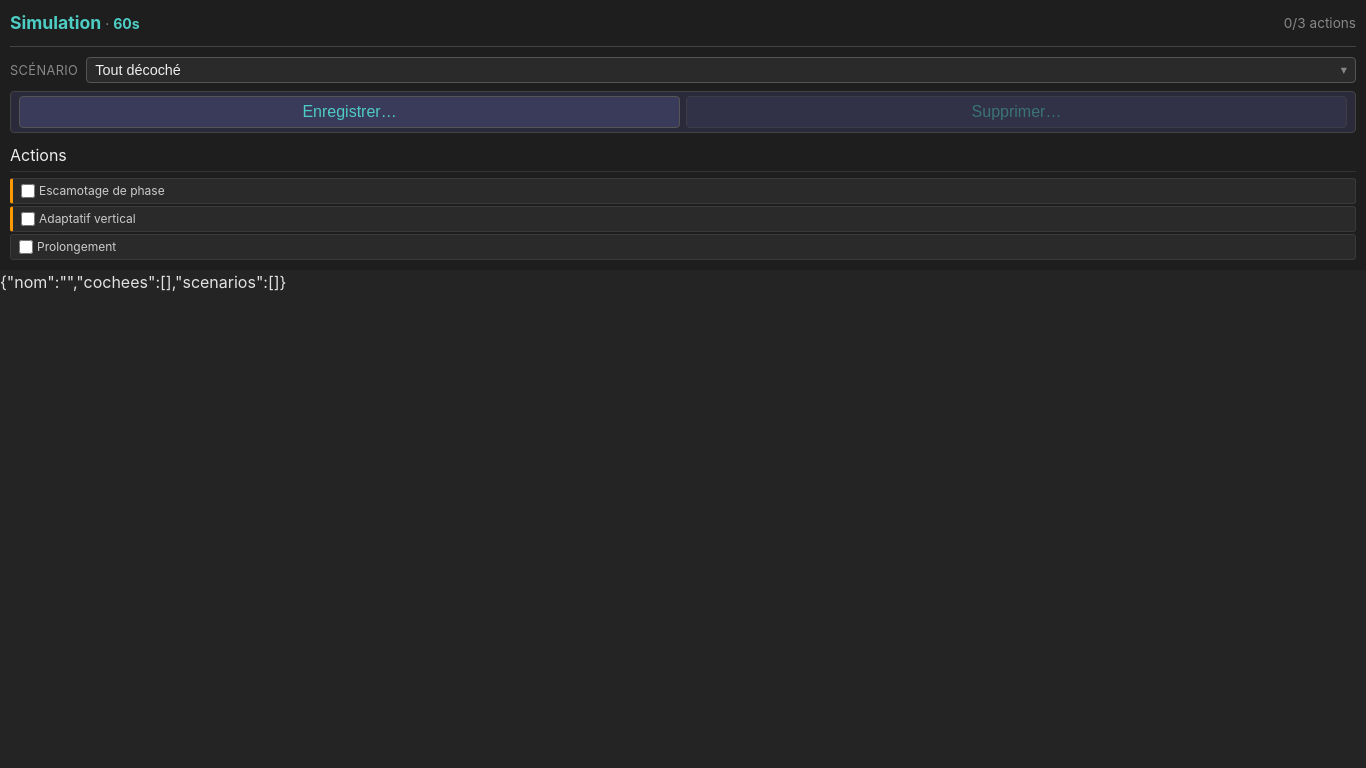
Test: Scénarios de simulation — la liste › les titres des scénarios fixes sont réservés
Click the button "Tout décoché ▾": (138, 70) x1=86 y1=57 x2=1356 y2=83
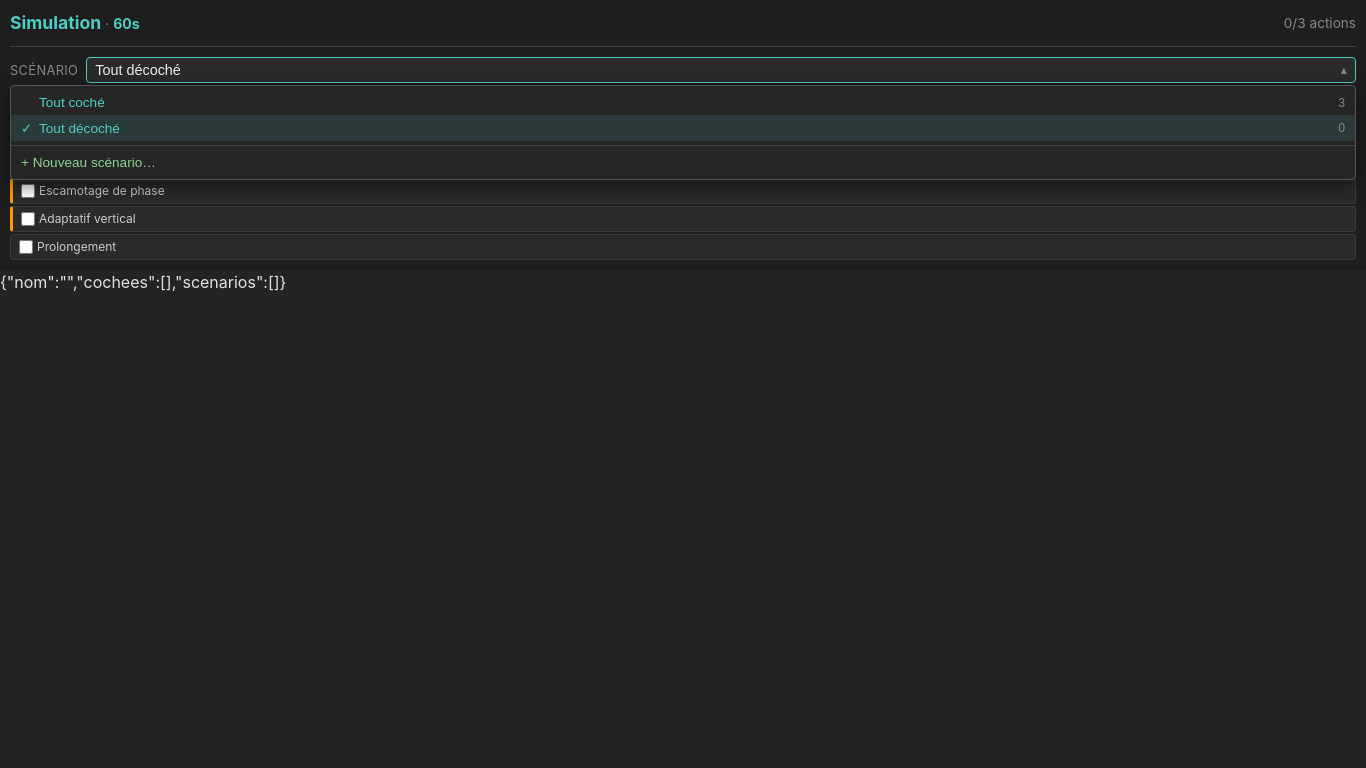
Click the button "+ Nouveau scénario…": (88, 163) x1=11 y1=150 x2=1355 y2=175
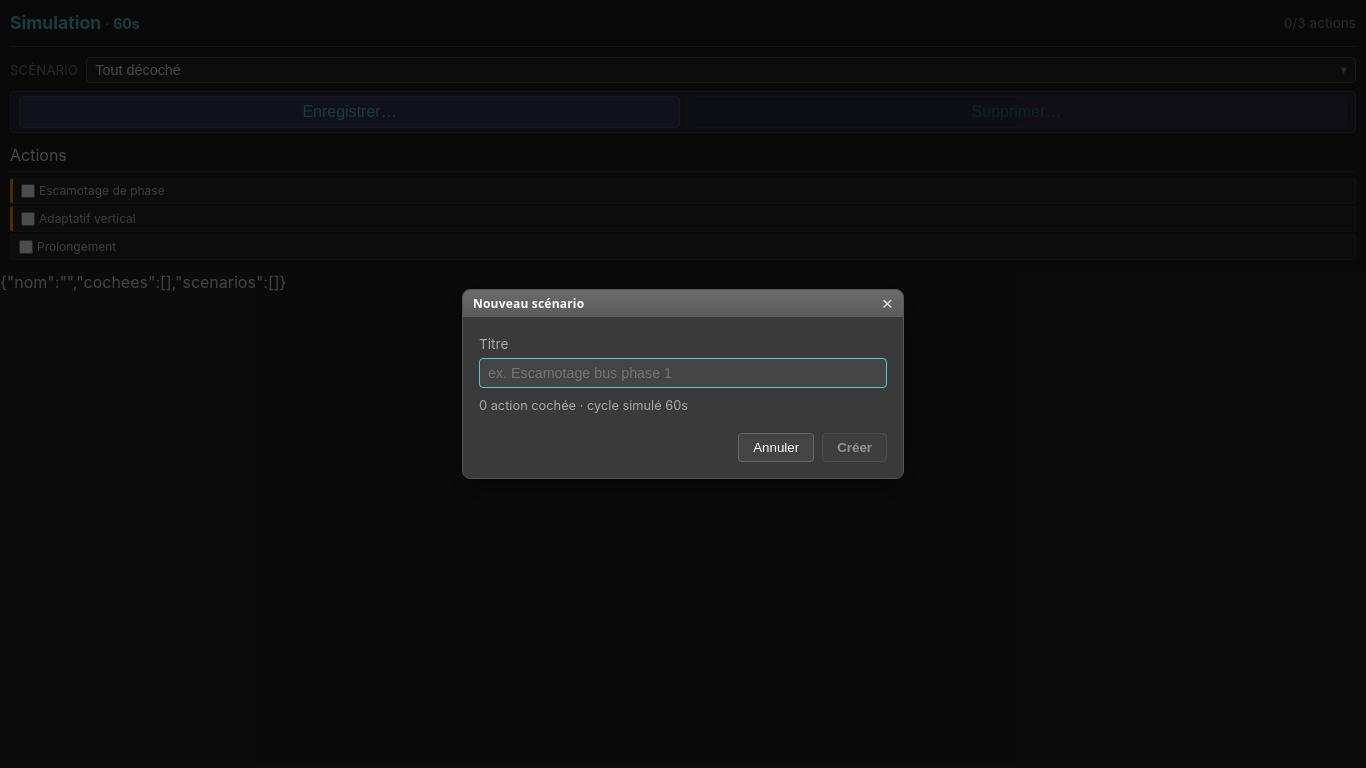
In the field with placeholder "ex. Escamotage bus phase 1": (683, 373) x1=479 y1=358 x2=887 y2=388, type "tout coché"
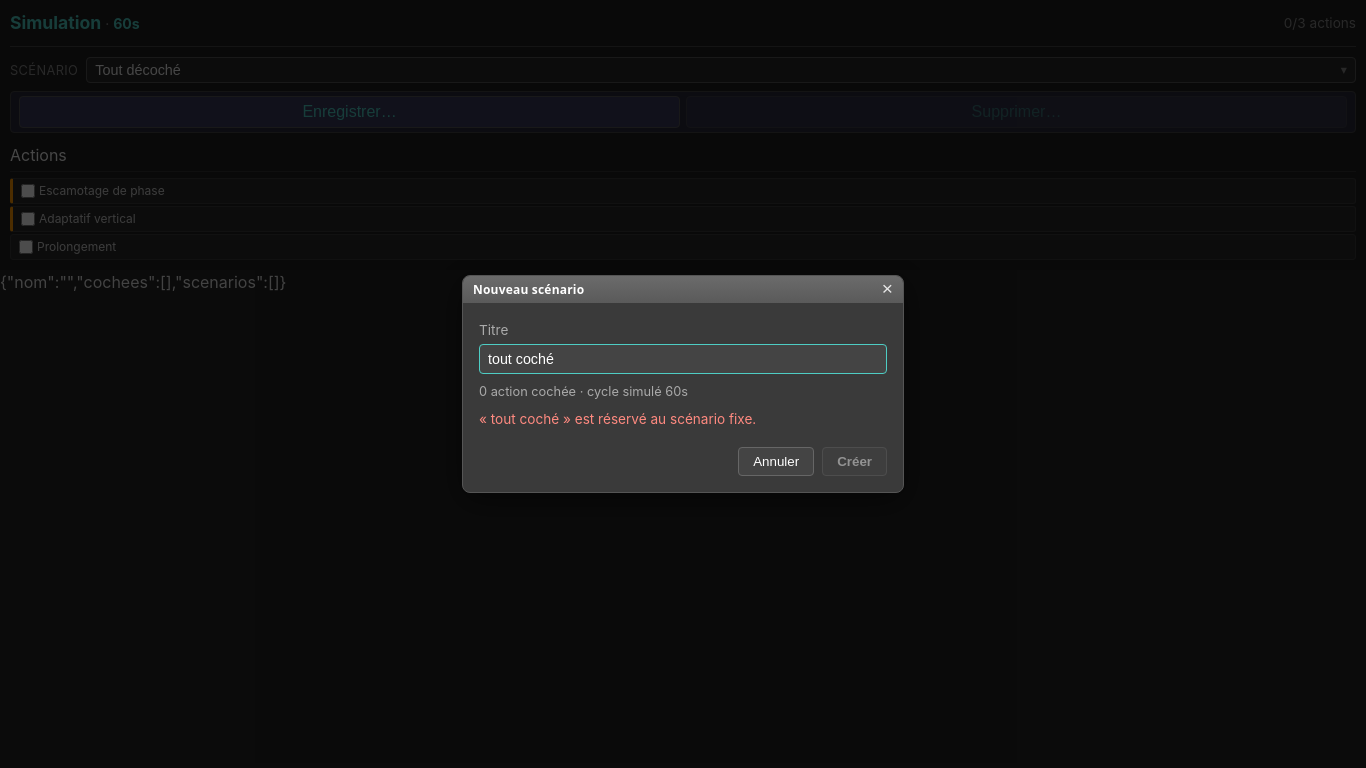
expect the button "Créer" is disabled: met, box x1=822 y1=448 x2=887 y2=476
expect the text "« tout coché » est réservé au scénario fixe." is shown: met, box x1=479 y1=411 x2=756 y2=427
